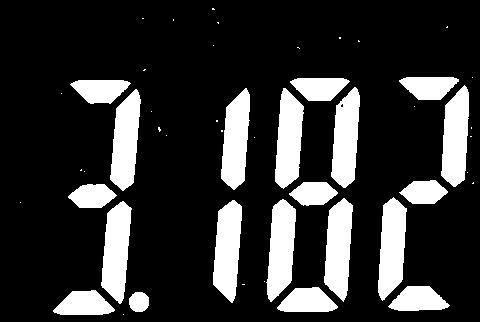1: (211, 87, 250, 305)
2: (380, 73, 470, 311)
3: (53, 76, 141, 314)
8: (264, 71, 363, 313)
dot: (128, 288, 151, 314)
